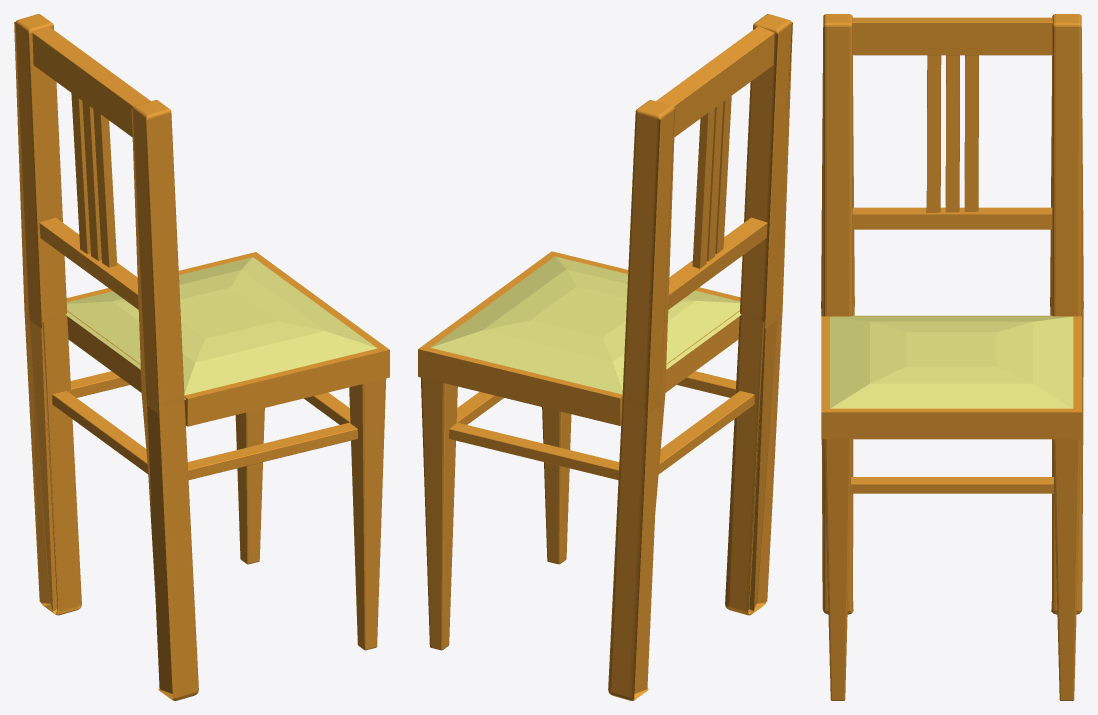
File: СТУЛ ЧБ 222.fbx
The picture shows the model from 3 angles, left to right: view 1: azimuth 30°, elevation 25°; view 2: azimuth 150°, elevation 25°; view 3: azimuth 270°, elevation 25°; orthographic projection. The views are drawn at different scales.
Parts seen in each view (by area): view 1: Плоскость.003, Плоскость.007, Плоскость.001, Плоскость, Плоскость.002, Плоскость.005, Плоскость.006, Плоскость.004; view 2: Плоскость.003, Плоскость.007, Плоскость.001, Плоскость, Плоскость.002, Плоскость.006, Плоскость.005, Плоскость.004; view 3: Плоскость.007, Плоскость.003, Плоскость.001, Плоскость, Плоскость.006, Плоскость.005, Плоскость.004, Плоскость.002.
Boxes of the visible parts, <box> form: Плоскость.003: <box>14,14,198,700</box>; Плоскость.007: <box>65,257,377,399</box>; Плоскость.001: <box>235,378,386,650</box>; Плоскость: <box>66,252,389,426</box>; Плоскость.002: <box>52,371,357,479</box>; Плоскость.005: <box>71,85,117,267</box>; Плоскость.006: <box>32,26,150,137</box>; Плоскость.004: <box>39,217,138,309</box>; Плоскость.003: <box>608,14,792,700</box>; Плоскость.007: <box>430,256,741,394</box>; Плоскость.001: <box>420,377,571,650</box>; Плоскость: <box>418,251,740,425</box>; Плоскость.002: <box>449,371,754,479</box>; Плоскость.006: <box>656,26,774,137</box>; Плоскость.005: <box>692,96,731,268</box>; Плоскость.004: <box>668,217,767,309</box>; Плоскость.007: <box>830,315,1073,408</box>; Плоскость.003: <box>821,14,1083,614</box>; Плоскость.001: <box>824,439,1080,700</box>; Плоскость: <box>821,316,1081,439</box>; Плоскость.006: <box>852,17,1052,55</box>; Плоскость.005: <box>926,55,978,212</box>; Плоскость.004: <box>852,207,1052,229</box>; Плоскость.002: <box>850,477,1054,493</box>.
Size of the model in its own units: 292 by 684 by 281.
